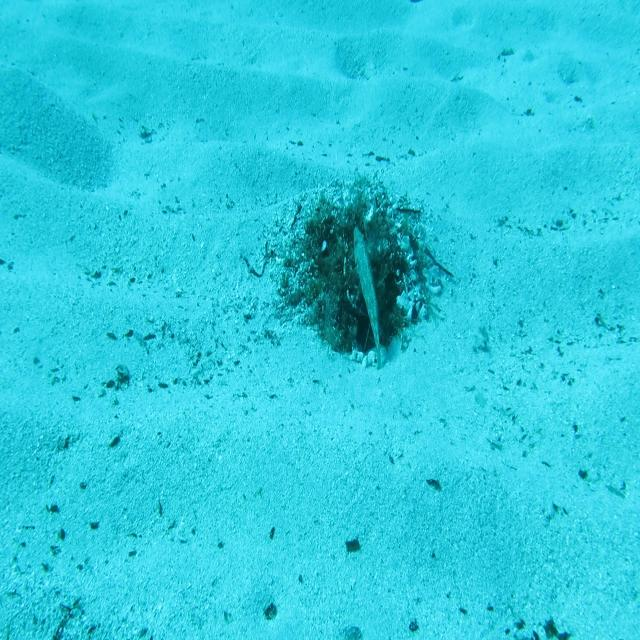FAN: (344, 228, 382, 372)
nest: (263, 178, 437, 372)
